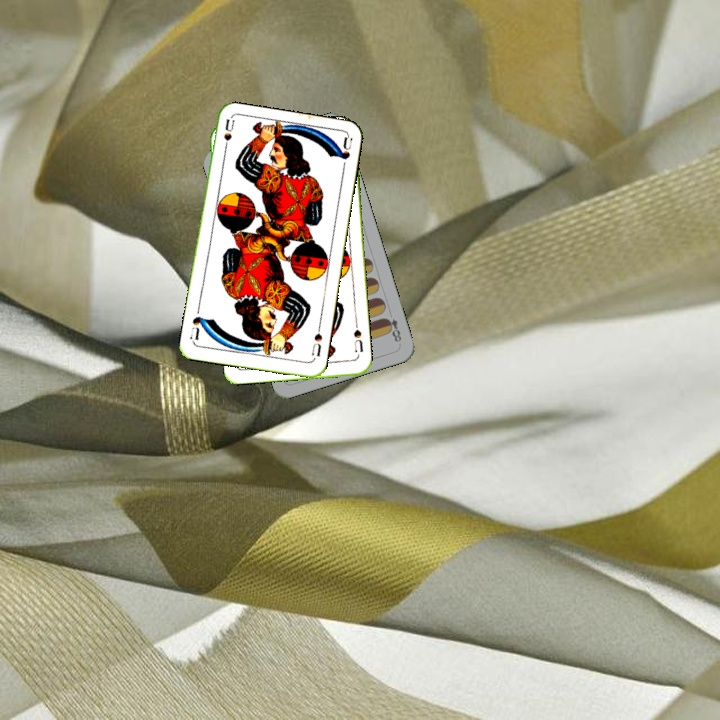E8: (381, 314, 404, 345)
SU: (220, 116, 237, 157), (307, 322, 325, 359), (349, 325, 366, 355)
